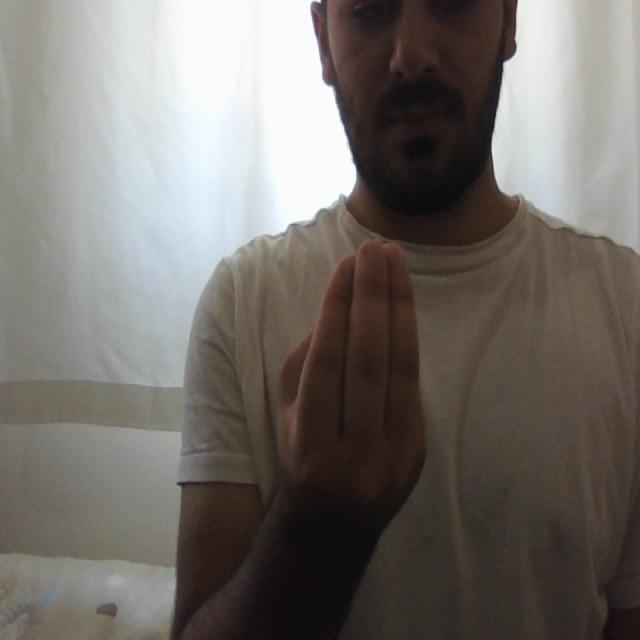iyi: (274, 239, 432, 511)
